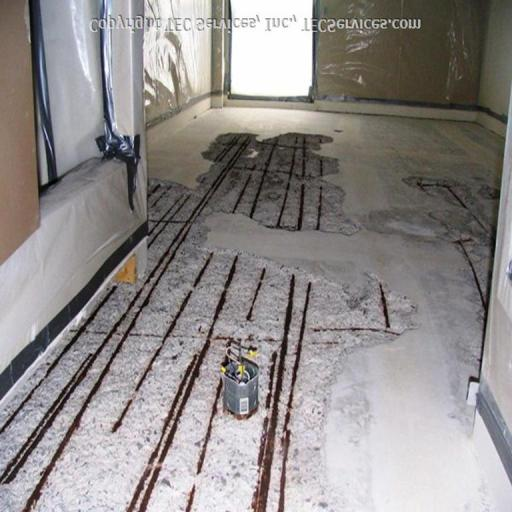spalling: (0, 131, 417, 512), (402, 182, 495, 319)
